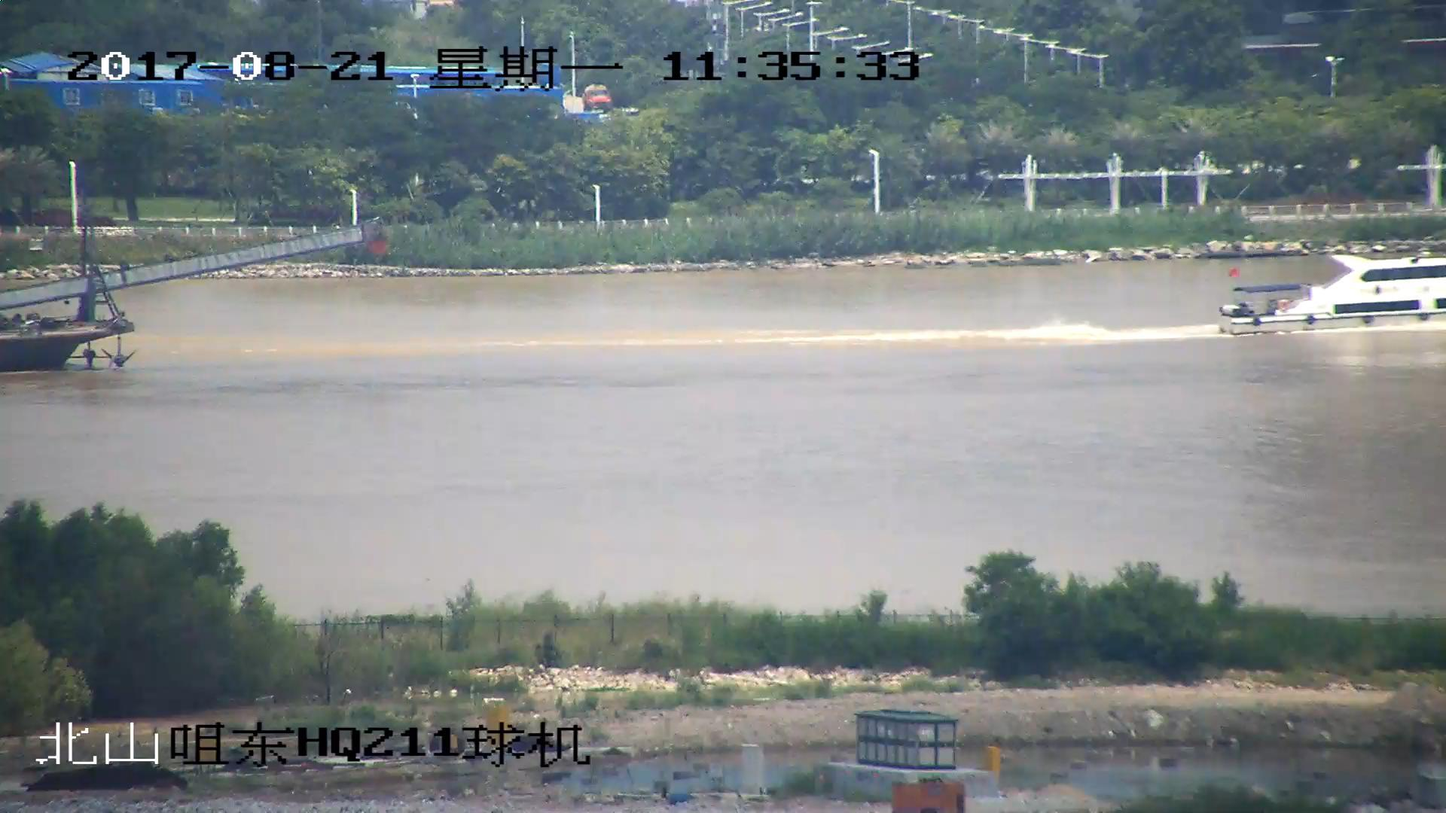bulk cargo carrier: (0, 220, 368, 368)
passenger ship: (1213, 254, 1445, 333)
